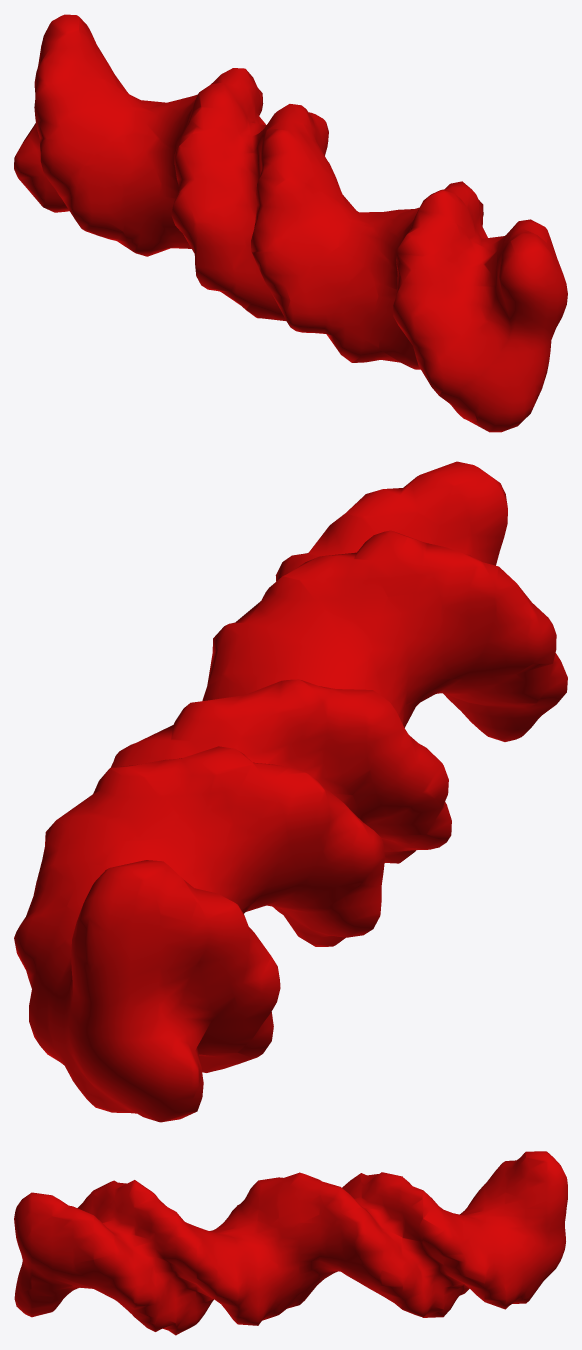
The model's file is CoarseMS_1a36_BC.fbx.
The picture shows the model from 3 angles, top to bottom: view 1: azimuth 30°, elevation 25°; view 2: azimuth 150°, elevation 25°; view 3: azimuth 270°, elevation 25°; orthographic projection. The views are drawn at different scales.
Parts seen in each view (by area): view 1: CoarseMS_1a36_BC_Mesh; view 2: CoarseMS_1a36_BC_Mesh; view 3: CoarseMS_1a36_BC_Mesh.
Boxes of the visible parts, bbox=[...] form: CoarseMS_1a36_BC_Mesh: bbox=[14, 14, 567, 432]; CoarseMS_1a36_BC_Mesh: bbox=[14, 461, 567, 1122]; CoarseMS_1a36_BC_Mesh: bbox=[14, 1151, 567, 1335].
Size of the model in its own units: 28.43 by 21.17 by 71.71.
